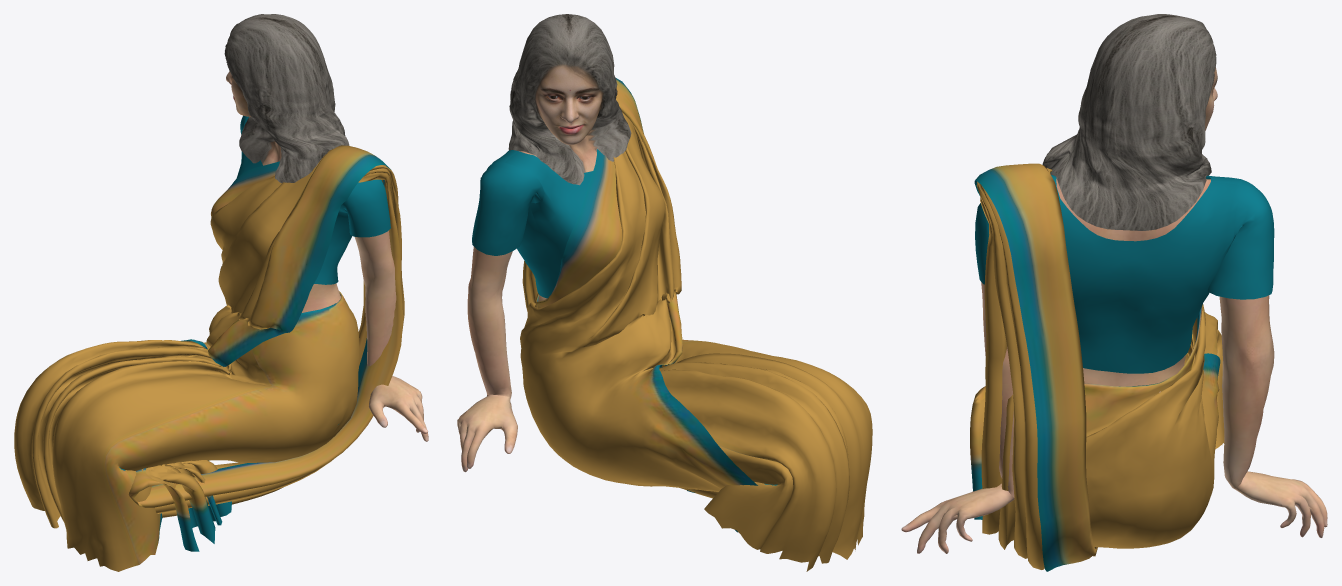
Rendered from Couple_Women0001.obj.
3 views of the same model, side by side, from view 1: azimuth 30°, elevation 25°; view 2: azimuth 150°, elevation 25°; view 3: azimuth 270°, elevation 25° (orthographic). The views are drawn at different scales.
Visible parts, largest first — view 1: Object_15, Object_8, Object_6; view 2: Object_15, Object_8, Object_6; view 3: Object_15, Object_8, Object_6.
Boxes of the visible parts, left/top/right/bottom form: Object_15: left=14, top=115, right=404, bottom=571; Object_8: left=224, top=14, right=349, bottom=183; Object_6: left=302, top=230, right=428, bottom=441; Object_15: left=472, top=78, right=872, bottom=571; Object_8: left=508, top=14, right=631, bottom=185; Object_6: left=457, top=151, right=546, bottom=472; Object_15: left=970, top=163, right=1274, bottom=571; Object_8: left=1042, top=14, right=1217, bottom=230; Object_6: left=901, top=179, right=1327, bottom=553.
Bounding box in the file's own units: 9.35 × 12.32 × 7.79.
